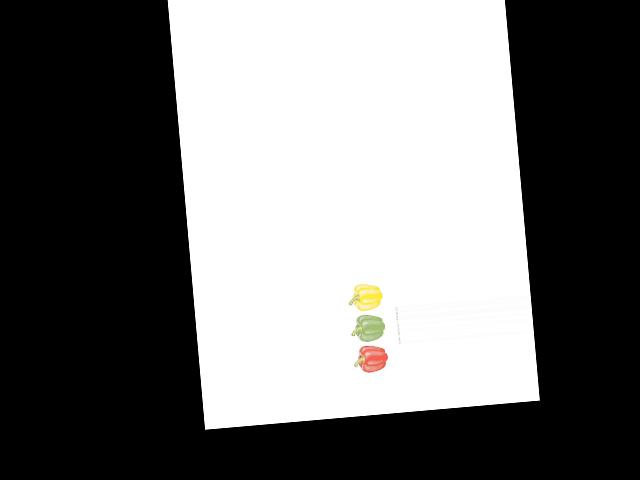bell_pepper: (347, 280, 386, 314)
